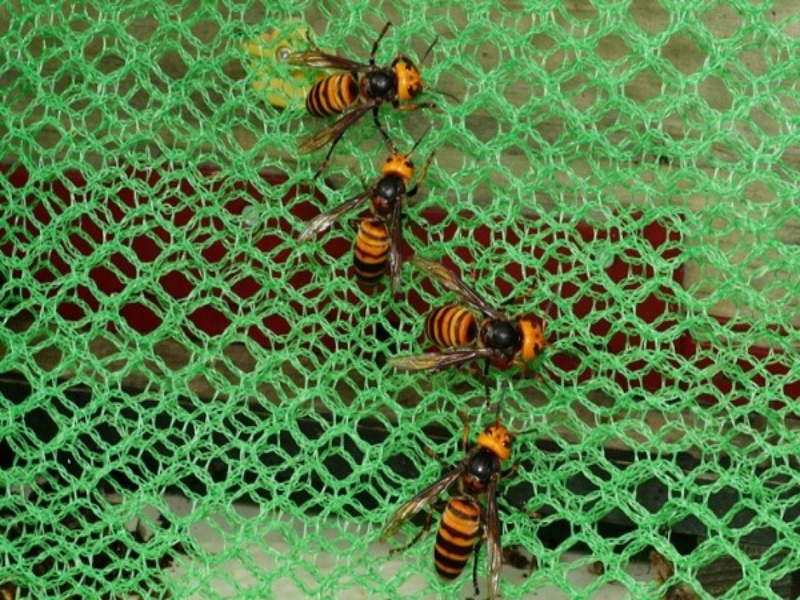asian_giant_hornet: (425, 412, 532, 582), (303, 34, 444, 146), (345, 147, 436, 282), (425, 303, 548, 375)
